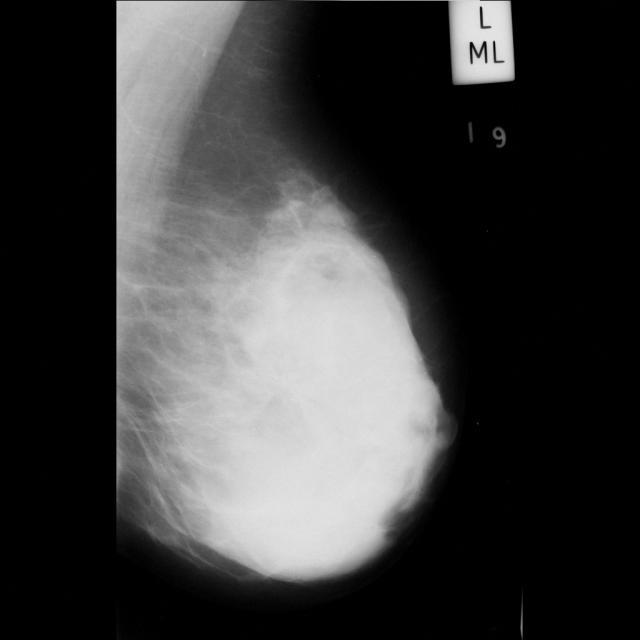ARCH: (313, 209, 390, 287)
